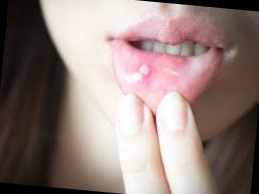Ulcer: (135, 59, 154, 80)
